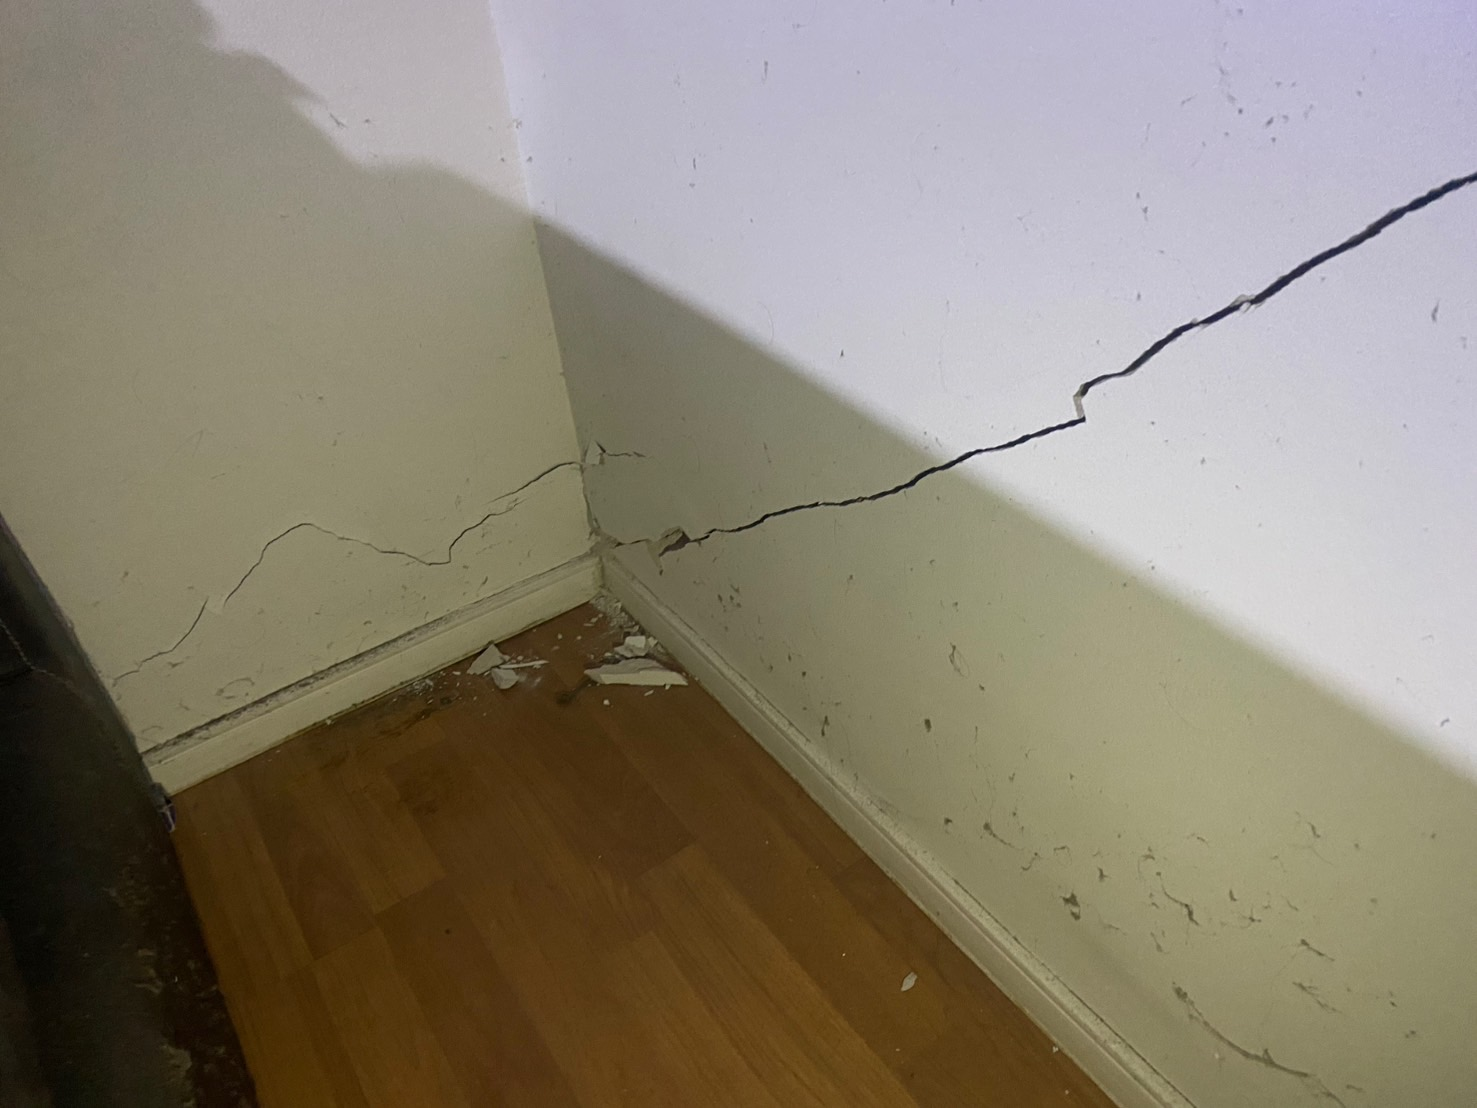Medium: (694, 158, 1453, 537)
